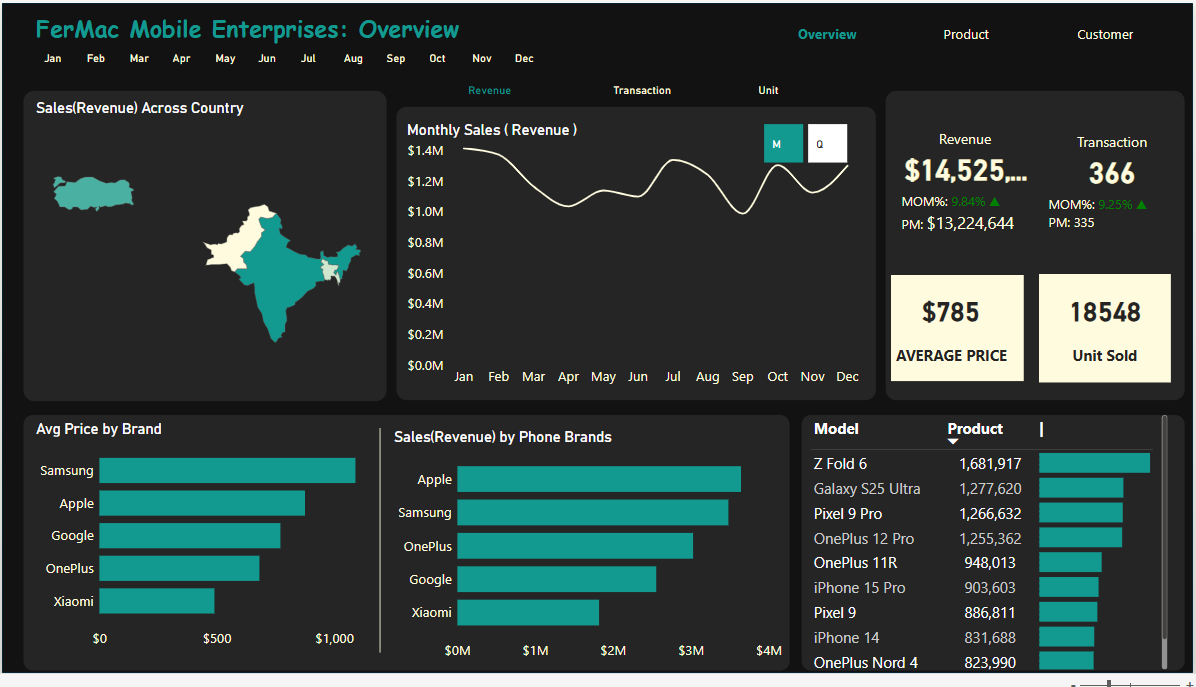

What the dashboard file says about the page in this screenshot:
{"tool":"powerbi","page":{"name":"Overview","canvas":[1920,1080],"ordinal":0},"visuals":[{"type":"advancedSlicerVisual","fields":{"Values":["metrics.metrics"]},"box":[733.7,102.9,704.6,72],"z":0},{"type":"lineChart","fields":{"Category":["Calendar.Month"],"Y":["DaxTable.Total Unit"]},"box":[648,190.3,742.3,435.4],"z":1000},{"type":"tableEx","fields":{"Values":["Products.Mobile_Model","DaxTable.Top10Dynamic","DaxTable.Top selling bar"]},"box":[1297.7,660,586.3,420],"z":2000},{"type":"barChart","fields":{"Y":["DaxTable.Total Unit"],"Category":["Products.Brand"]},"box":[627.4,685.7,636,382.3],"z":3000},{"type":"barChart","fields":{"Category":["Products.Brand"],"Y":["DaxTable.Avg Price"]},"box":[49.7,672,598.3,375.4],"z":4000},{"type":"shapeMap","fields":{"Value":["DaxTable.Total Unit"],"Category":["Locations.Country"]},"box":[49.7,154.3,560.6,490.3],"z":5000},{"type":"textbox","box":[49.7,8.6,785.1,77.1],"z":6000},{"type":"cardVisual","fields":{"Data":["DaxTable.Total Revenue","DaxTable.Total Transaction"]},"box":[1438.3,154.3,466.3,264],"z":7000},{"type":"advancedSlicerVisual","fields":{"Values":["M|Q.short_m&q"]},"box":[1224,190.3,145.7,72],"z":8000},{"type":"pageNavigator","box":[1224,18.9,663.4,58.3],"z":9000},{"type":"shape","box":[1433.4,438.9,214.3,171.4],"z":10000,"group":"g2"},{"type":"shape","box":[459.4,685.7,300,361.7],"z":10000},{"type":"group","id":"g1","title":"Group 1","box":[1671.4,437.1,212.6,174.9],"z":11000},{"type":"shape","box":[1671.4,437.1,212.6,174.9],"z":11000,"group":"g1"},{"type":"group","id":"g2","title":"Group 2","box":[1423.6,438.9,224.1,171.7],"z":12000},{"type":"card","fields":{"Values":["DaxTable.Avg Price"]},"box":[1423.6,454.6,212.6,78.9],"z":12000,"group":"g2"},{"type":"advancedSlicerVisual","fields":{"Values":["Calendar.Month"]},"box":[49.7,58.3,838.3,61.7],"z":13000},{"type":"card","fields":{"Values":["Sum(Sales.Units_Sold)"]},"box":[1671.9,454,212.6,78],"z":13000,"group":"g1"},{"type":"textbox","box":[1423.6,547.1,214.3,63.4],"z":14000,"group":"g2"},{"type":"textbox","box":[1671.9,546.3,212.6,49.7],"z":15000,"group":"g1"}]}

Visuals, with their boxes in screenshot pixels (x1, y1, x2, y2), scaled from the page's 1920x1080 canvas onto the 1196x687 screenshot:
advancedSlicerVisual - metrics.metrics: {"left": 457, "top": 65, "right": 896, "bottom": 111}
lineChart - Calendar.Month x DaxTable.Total Unit: {"left": 404, "top": 121, "right": 866, "bottom": 398}
tableEx - Products.Mobile_Model x DaxTable.Top10Dynamic: {"left": 808, "top": 420, "right": 1174, "bottom": 686}
barChart - DaxTable.Total Unit x Products.Brand: {"left": 391, "top": 436, "right": 787, "bottom": 679}
barChart - Products.Brand x DaxTable.Avg Price: {"left": 31, "top": 427, "right": 404, "bottom": 666}
shapeMap - DaxTable.Total Unit x Locations.Country: {"left": 31, "top": 98, "right": 380, "bottom": 410}
textbox: {"left": 31, "top": 5, "right": 520, "bottom": 55}
cardVisual - DaxTable.Total Revenue x DaxTable.Total Transaction: {"left": 896, "top": 98, "right": 1186, "bottom": 266}
advancedSlicerVisual - M|Q.short_m&q: {"left": 762, "top": 121, "right": 853, "bottom": 167}
pageNavigator: {"left": 762, "top": 12, "right": 1176, "bottom": 49}
shape: {"left": 893, "top": 279, "right": 1026, "bottom": 388}
shape: {"left": 286, "top": 436, "right": 473, "bottom": 666}
"Group 1" group: {"left": 1041, "top": 278, "right": 1174, "bottom": 389}
shape: {"left": 1041, "top": 278, "right": 1174, "bottom": 389}
"Group 2" group: {"left": 887, "top": 279, "right": 1026, "bottom": 388}
card - DaxTable.Avg Price: {"left": 887, "top": 289, "right": 1019, "bottom": 339}
advancedSlicerVisual - Calendar.Month: {"left": 31, "top": 37, "right": 553, "bottom": 76}
card - Sum(Sales.Units_Sold): {"left": 1041, "top": 289, "right": 1174, "bottom": 338}
textbox: {"left": 887, "top": 348, "right": 1020, "bottom": 388}
textbox: {"left": 1041, "top": 348, "right": 1174, "bottom": 379}
